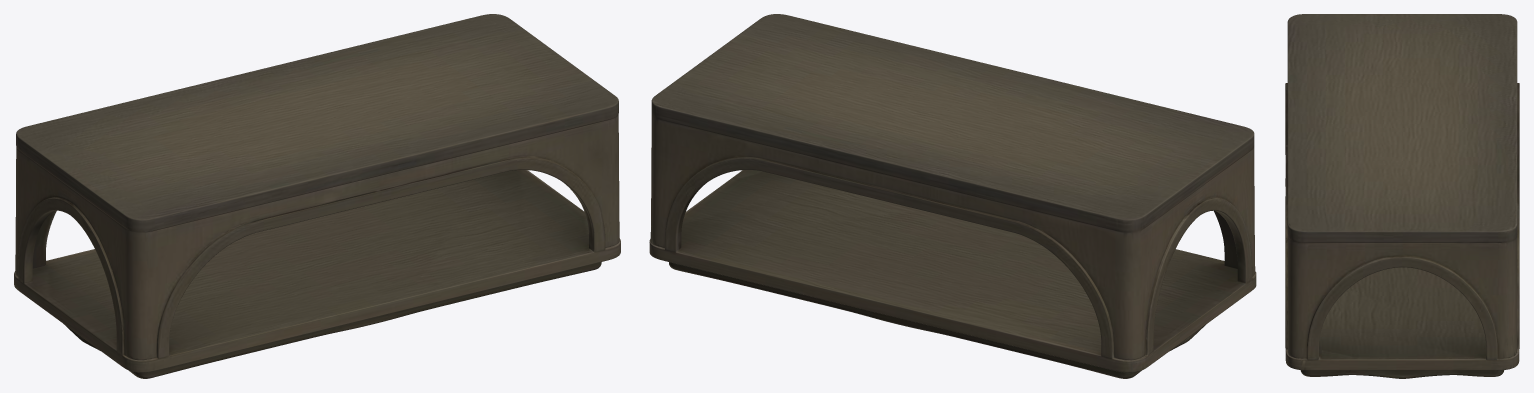
The model's file is coffee-real-castlery-arcadia-coffee-table.glb.
3 renders of one model, left to right at view 1: azimuth 30°, elevation 25°; view 2: azimuth 150°, elevation 25°; view 3: azimuth 270°, elevation 25°, orthographic. The views are drawn at different scales.
Parts seen in each view (by area): view 1: node_0; view 2: node_0; view 3: node_0.
Part boxes in pixels (bbox=[...]): node_0: bbox=[14, 14, 620, 378]; node_0: bbox=[649, 14, 1256, 378]; node_0: bbox=[1285, 14, 1519, 378].
Size of the model in its own units: 1.08 by 0.3493 by 0.4867.
1 material, 1 textured.
